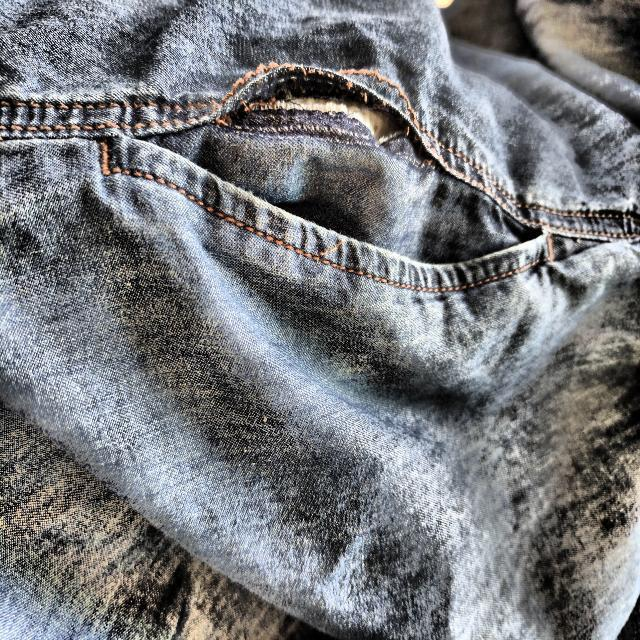gray stitch: (219, 61, 439, 170)
